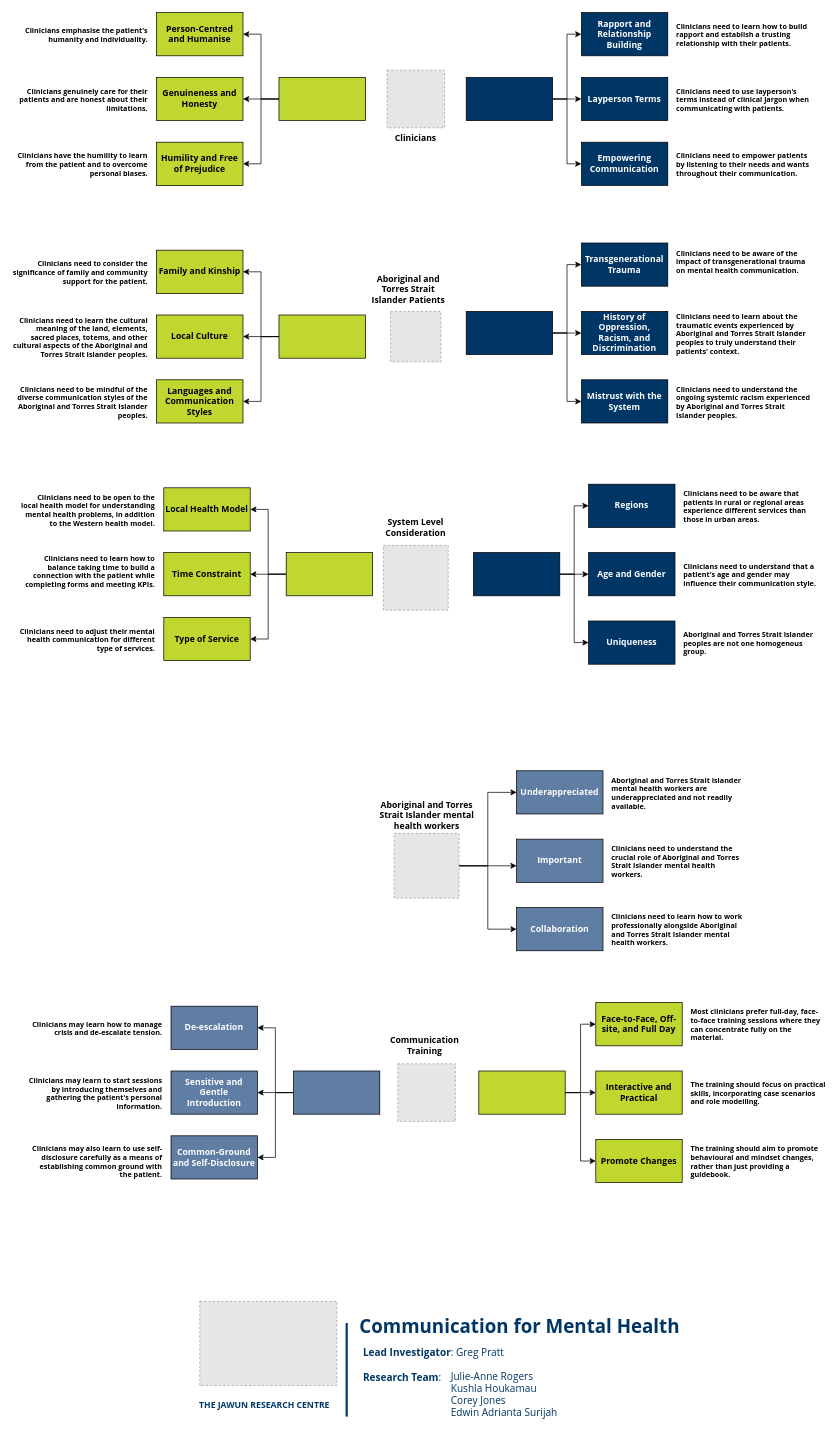
Some shapes in this 838 by 1431 pixel diagram are drawn without their labels. Grey dashed boxes stand in for pictures. Each missing label, with the centre of its shape:
Communication Skills: point (509, 99)
Content Ideas: point (336, 1092)
Core Values: point (321, 99)
Cultural Context: point (321, 336)
Delivery: point (521, 1092)
Demographic Aspects: point (516, 574)
Health System: point (329, 574)
Historical Context: point (509, 333)
